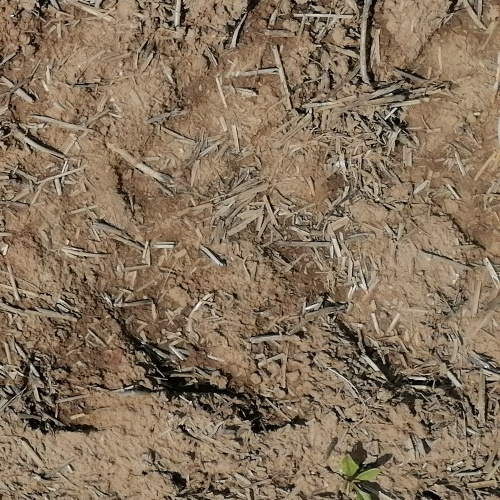beet: (342, 454, 378, 500)
